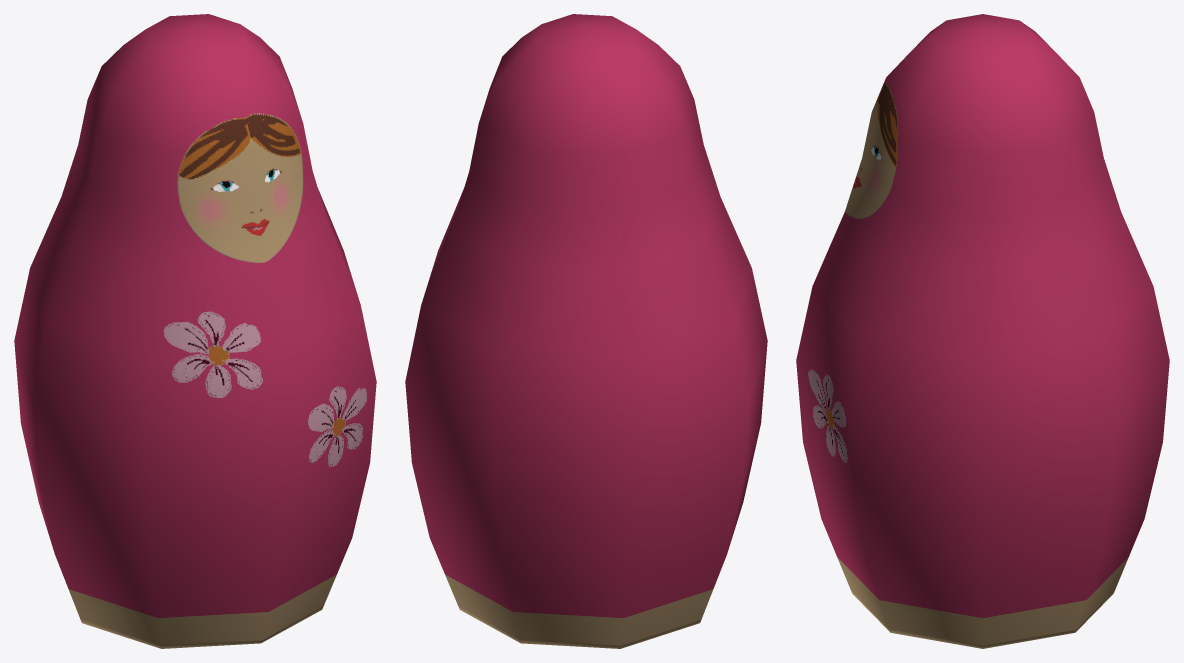
Rendered from poupee_C_02_optimisation_mesh.glb.
The picture shows the model from 3 angles, left to right: view 1: azimuth 30°, elevation 25°; view 2: azimuth 150°, elevation 25°; view 3: azimuth 270°, elevation 25°; orthographic projection.
Visible parts, largest first — view 1: Cylinder; view 2: Cylinder; view 3: Cylinder.
Boxes of the visible parts, x1,y1,x2,y2 form: Cylinder: (14,14,376,648); Cylinder: (405,14,767,648); Cylinder: (796,14,1169,648).
Bounding box in the file's own units: 0.0956 × 0.1601 × 0.0956.
Materials: 1 (1 with a texture image).
